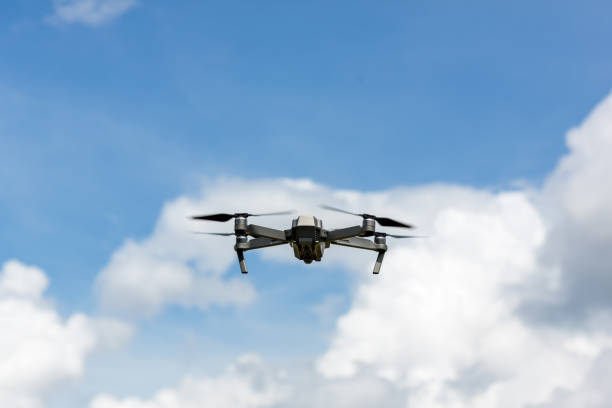Drone: (183, 197, 428, 280)
